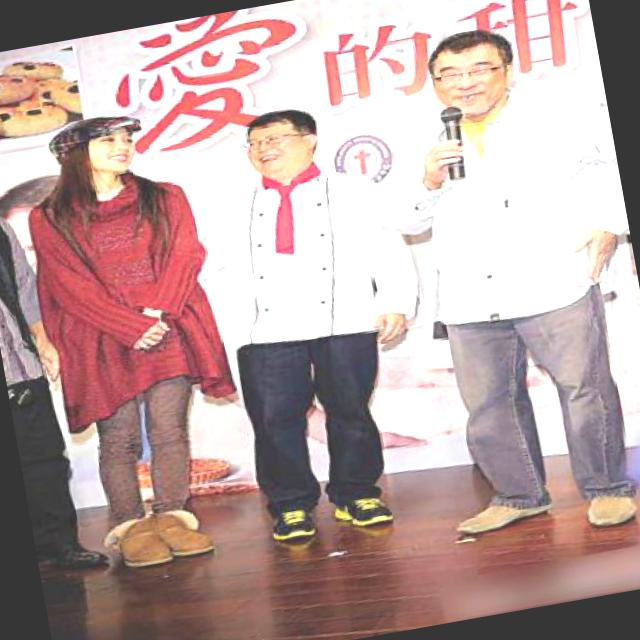Person: (376, 9, 640, 561), (0, 83, 252, 568), (188, 84, 444, 559)
